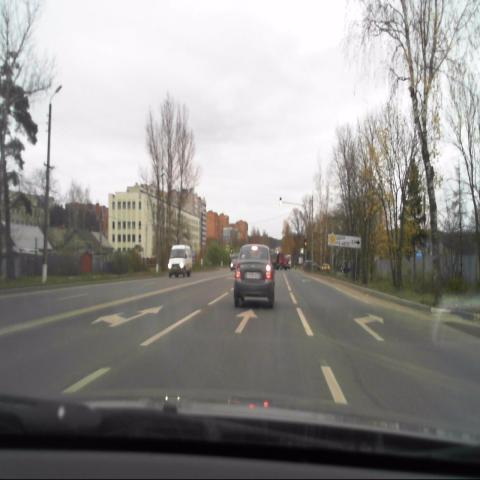2_1: (328, 231, 335, 247)
